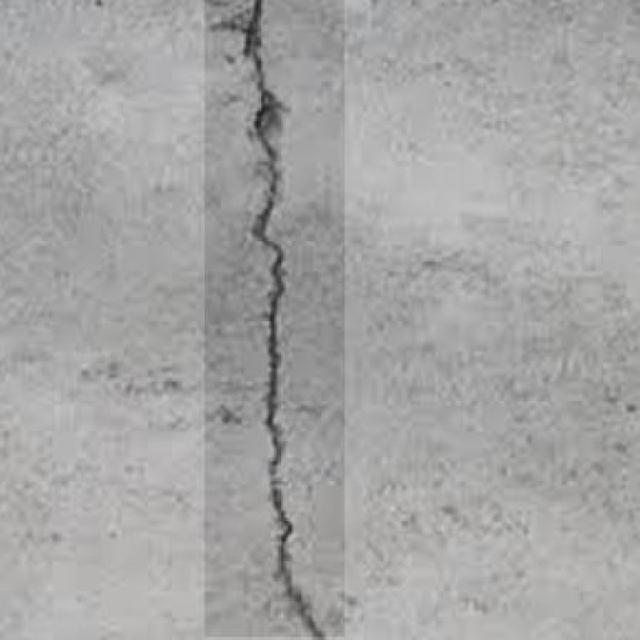Crack: (222, 0, 340, 633)
